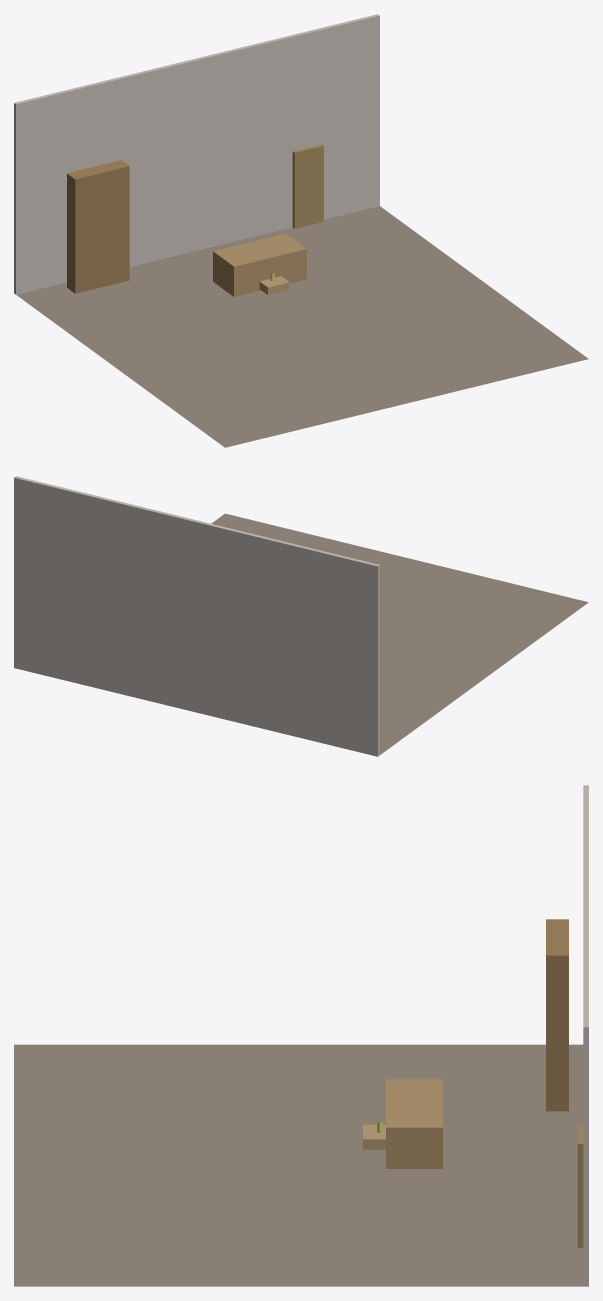
Rendered from study.gltf.
The picture shows the model from 3 angles, top to bottom: view 1: azimuth 30°, elevation 25°; view 2: azimuth 150°, elevation 25°; view 3: azimuth 270°, elevation 25°; orthographic projection. The views are drawn at different scales.
Visible parts, largest first — view 1: Floor, BackWall, Bookshelf, Desk, Door; view 2: BackWall, Floor; view 3: Floor, Desk, Bookshelf, BackWall, Door.
Part boxes in pixels (x1,y1,x2,y2): Floor: (16,206,588,447); BackWall: (14,14,379,294); Bookshelf: (67,160,129,293); Desk: (213,233,306,296); Door: (292,144,323,228); BackWall: (14,476,379,756); Floor: (211,513,588,754); Floor: (14,1044,583,1286); Desk: (386,1079,442,1168); Bookshelf: (546,919,568,1111); BackWall: (583,785,588,1286); Door: (577,1124,583,1247).
Bounding box in the file's own units: 10 × 5 × 10.05.
